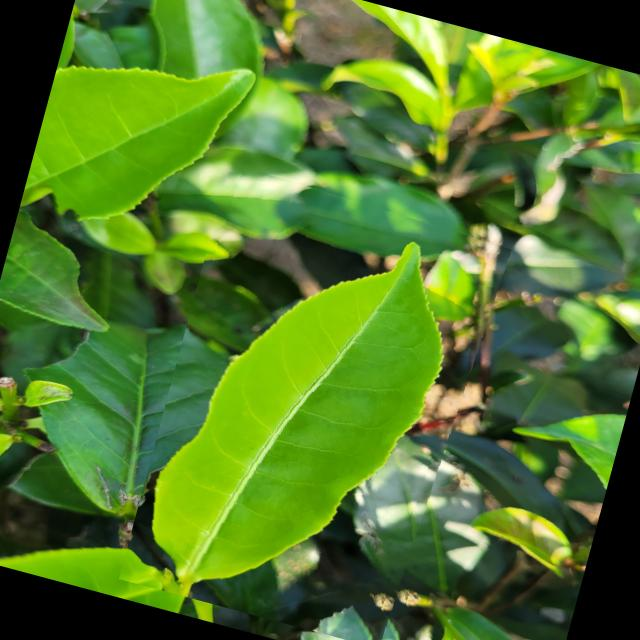Category B(2-4 days): (118, 162, 514, 640)
